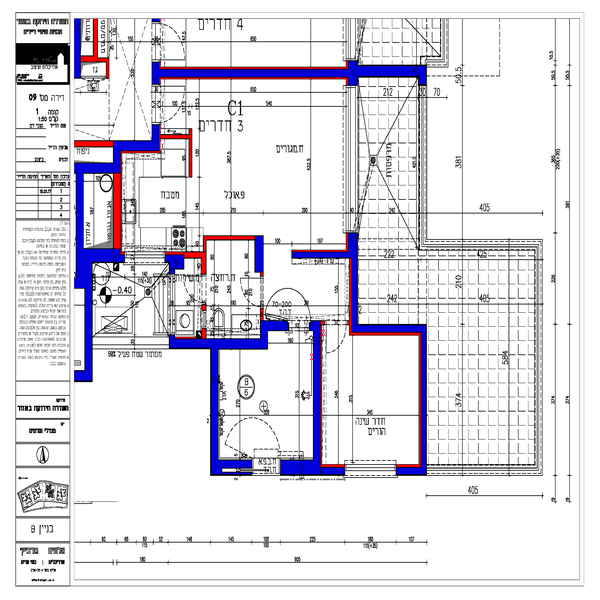door: (150, 18, 195, 63), (151, 84, 189, 124), (322, 318, 349, 359), (182, 274, 212, 304), (239, 276, 267, 307)
room: (149, 69, 356, 261), (312, 324, 428, 482), (208, 338, 321, 476), (115, 139, 207, 262), (78, 247, 185, 350), (256, 249, 356, 324), (75, 163, 127, 261)
wall: (155, 66, 347, 78), (312, 320, 321, 476), (168, 338, 268, 352), (417, 334, 427, 474), (209, 349, 218, 475), (74, 165, 83, 288), (349, 235, 359, 332), (359, 324, 427, 336), (84, 294, 93, 378), (114, 166, 122, 250), (291, 248, 350, 259), (114, 141, 161, 154), (280, 457, 312, 475), (218, 460, 253, 476), (253, 234, 265, 273), (85, 251, 127, 262), (396, 463, 419, 475)
window: (346, 458, 397, 480)
